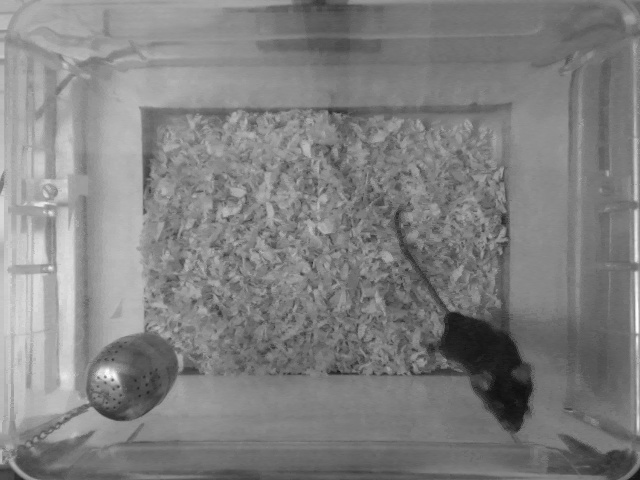mice: (384, 205, 544, 440)
